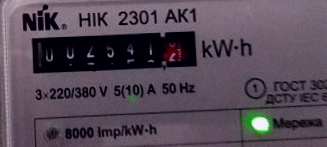0: (42, 41, 56, 63), (63, 39, 75, 60)
1: (144, 34, 155, 57)
2: (83, 37, 97, 59)
4: (124, 35, 135, 56)
5: (103, 36, 116, 60)
6: (166, 49, 178, 62)
screen: (18, 20, 209, 81)
